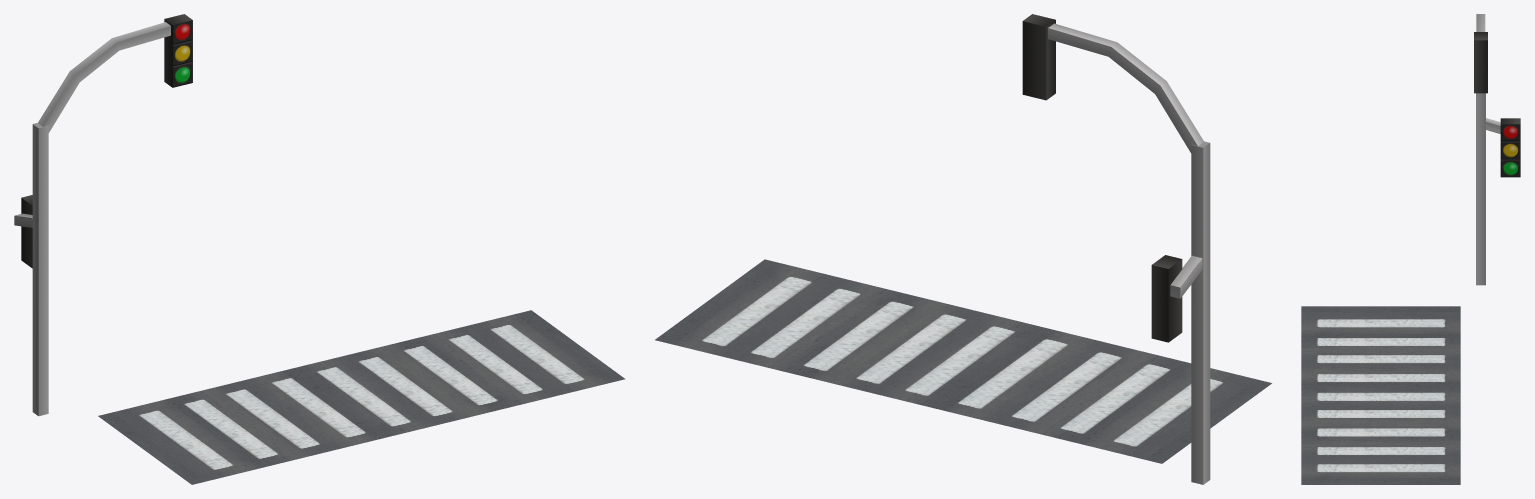
File: light.FBX
3 renders of one model, left to right at view 1: azimuth 30°, elevation 25°; view 2: azimuth 150°, elevation 25°; view 3: azimuth 270°, elevation 25°, orthographic. The views are drawn at different scales.
Parts seen in each view (by area): view 1: light; view 2: light; view 3: light.
Boxes of the visible parts, x1,y1,x2,y2 form: light: [14, 14, 625, 484]; light: [655, 14, 1271, 484]; light: [1301, 14, 1520, 484].
Bounding box in the file's own units: 1538 × 1108 × 714.
